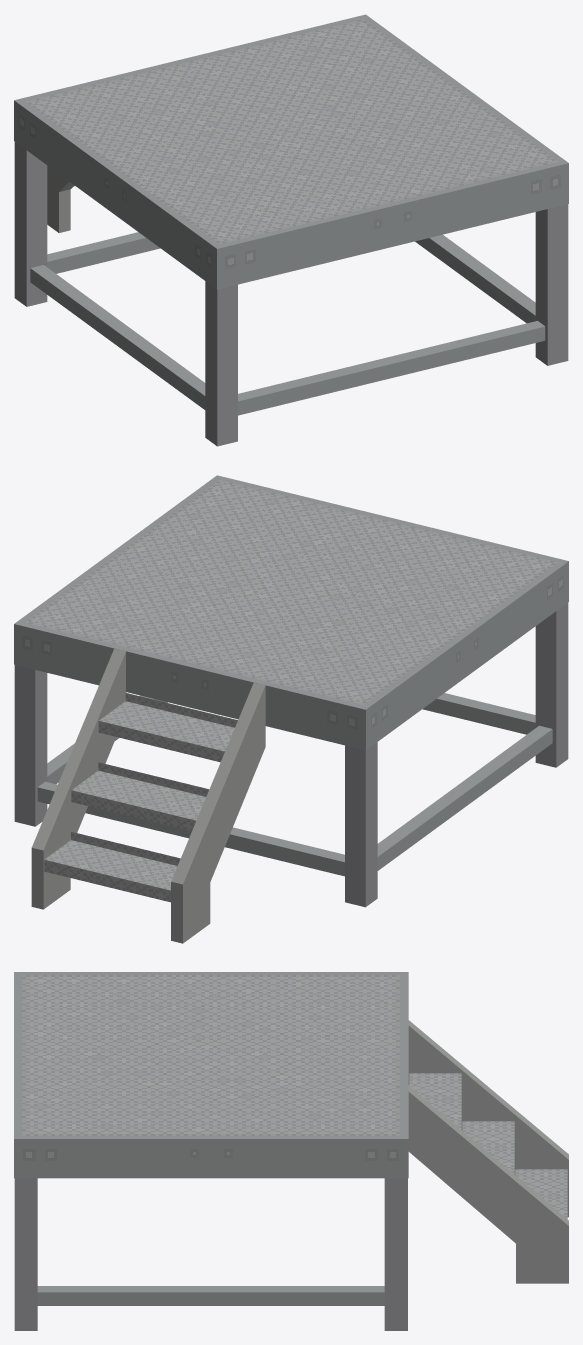
The model's file is 04ff_Podium.glb.
3 renders of one model, top to bottom at view 1: azimuth 30°, elevation 25°; view 2: azimuth 150°, elevation 25°; view 3: azimuth 270°, elevation 25°, orthographic. The views are drawn at different scales.
Parts seen in each view (by area): view 1: part_0; view 2: part_0; view 3: part_0.
Boxes of the visible parts, x1,y1,x2,y2 form: part_0: (14,14,568,446); part_0: (14,475,568,943); part_0: (14,972,568,1330).
Bounding box in the file's own units: 1.49 × 0.8 × 2.09.
1 material, 1 textured.
